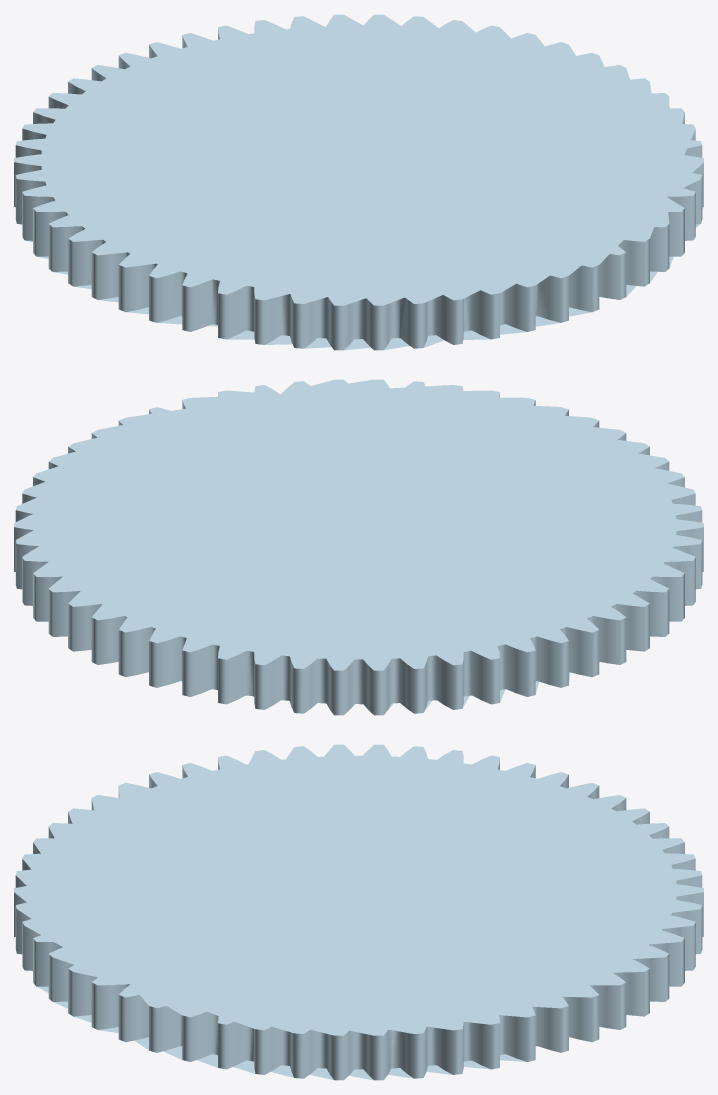
File: spline54t.fbx
3 views of the same model, one above another, from view 1: azimuth 30°, elevation 25°; view 2: azimuth 150°, elevation 25°; view 3: azimuth 270°, elevation 25° (orthographic).
Parts seen in each view (by area): view 1: Spur gear (54 teeth); view 2: Spur gear (54 teeth); view 3: Spur gear (54 teeth).
Boxes of the visible parts, bbox=[...] form: Spur gear (54 teeth): bbox=[14, 14, 703, 350]; Spur gear (54 teeth): bbox=[14, 379, 703, 715]; Spur gear (54 teeth): bbox=[14, 744, 703, 1080].
Size of the model in its own units: 7.11 by 0.508 by 7.11.
